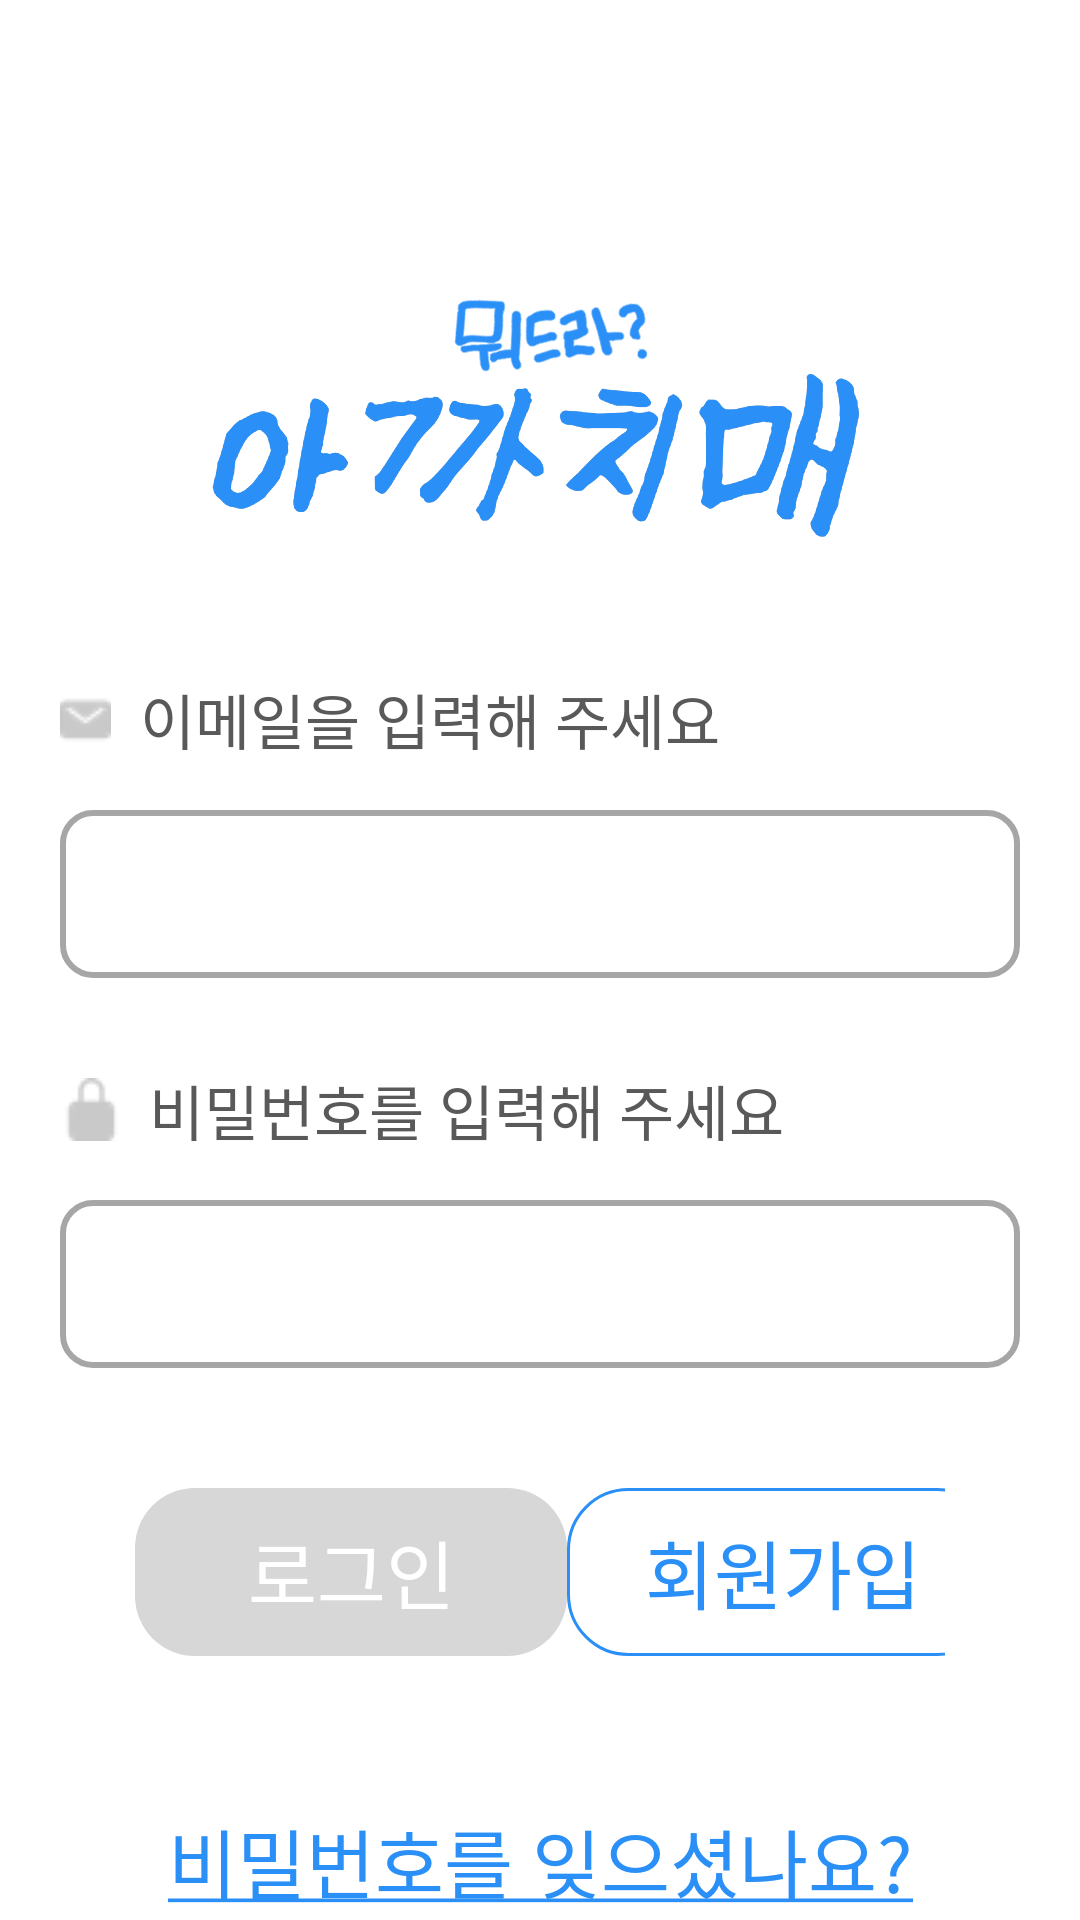

Point at icon controls on the screen. Image size 1080×1920, points as [x,y].
mail: [85,720]
